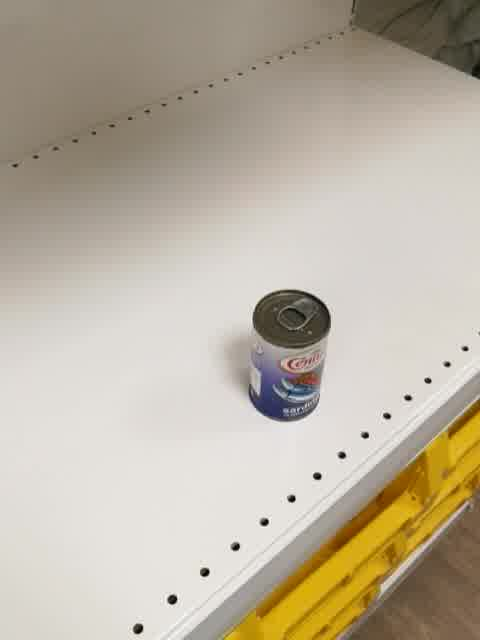sardine: (248, 287, 332, 423)
